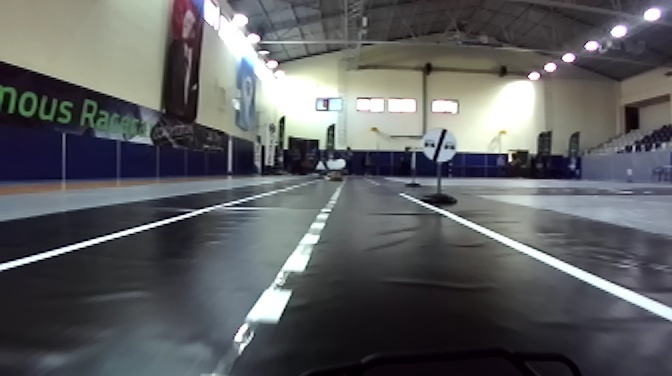sollama_serbest: (419, 126, 459, 162)
